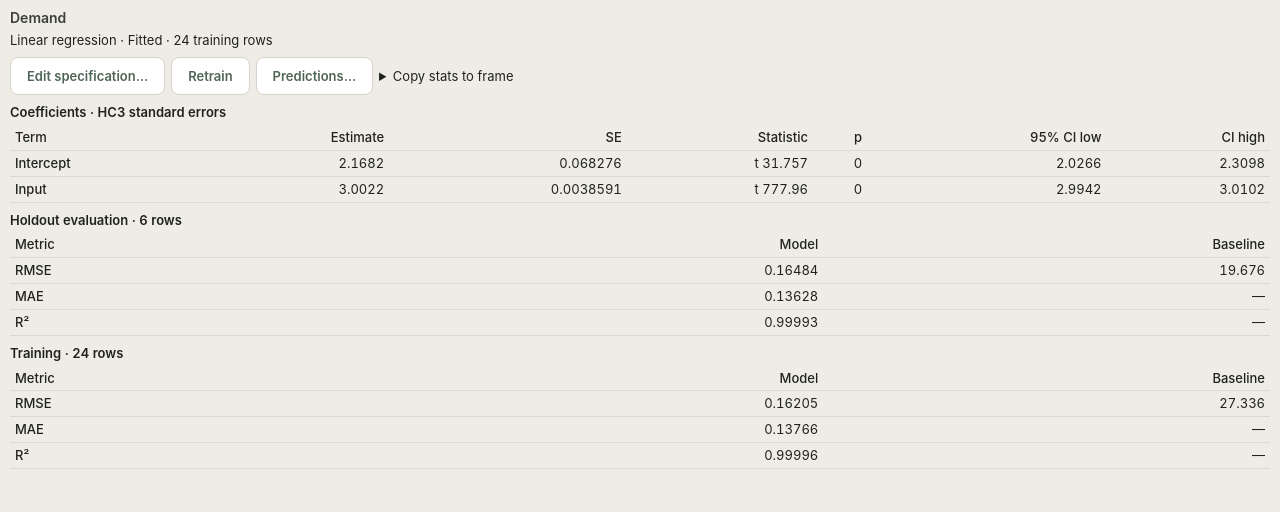
Test case: saved model card › requests a new fit explicitly and retains the old summary after a failed fit
What coordinates should you click on to do the following:
click the button "Retrain"
I would click on:
 (210, 76)
Its box is left=171, top=57, right=250, bottom=95.
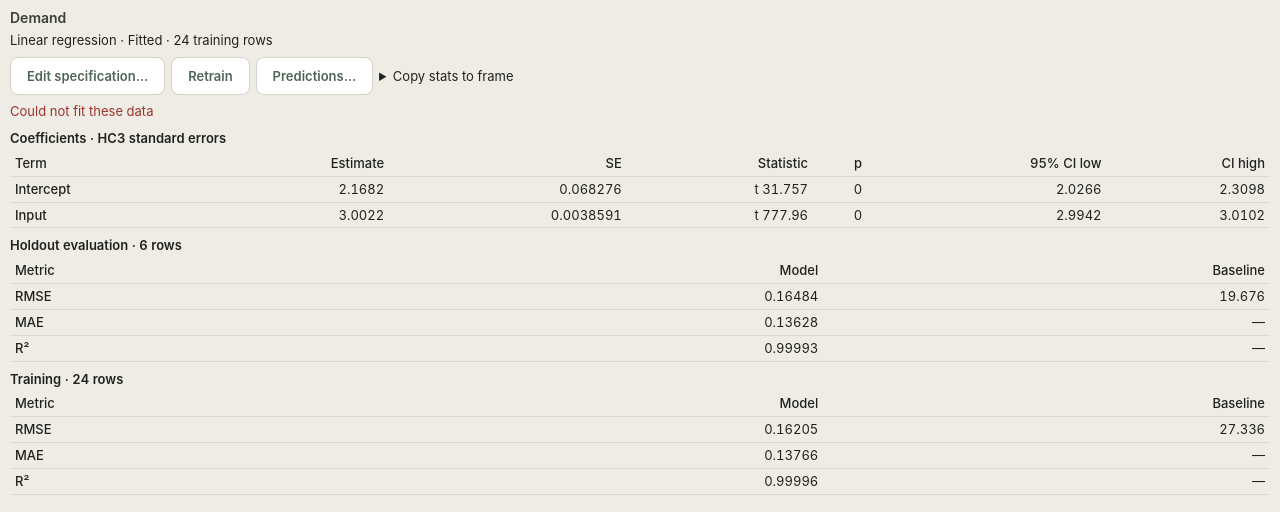
Check: the table named "Model coefficients" is shown, box left=10, top=129, right=1270, bottom=228
Check: the message reads "Could not fit these data", box left=10, top=103, right=154, bottom=119
